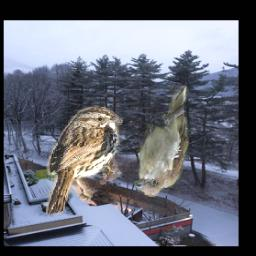Cuckoo: (136, 86, 190, 197)
Sparrow: (46, 105, 123, 215)
